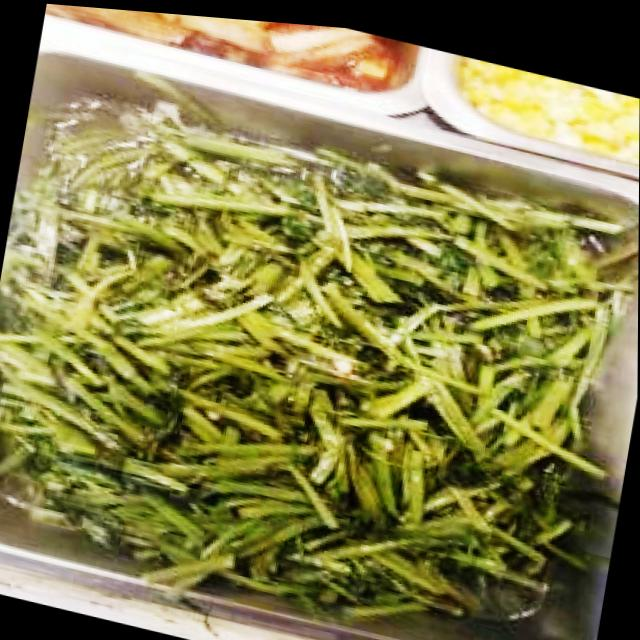water_spinach: (0, 92, 629, 640)
